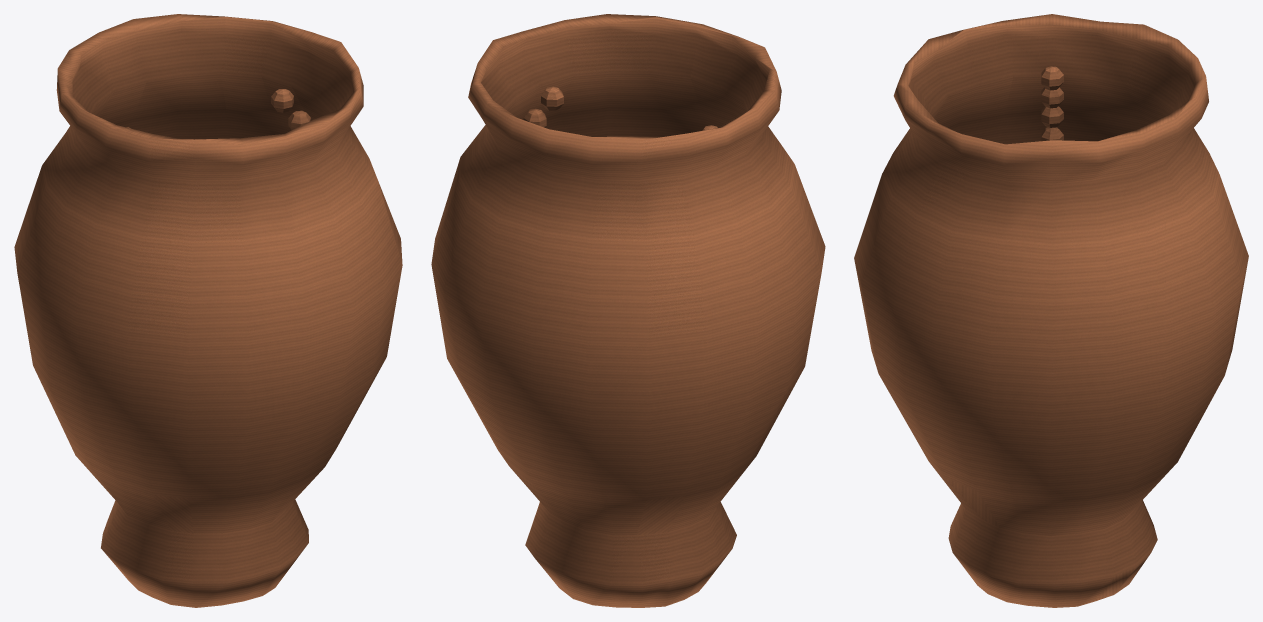
The model's file is urn.glb.
The picture shows the model from 3 angles, left to right: view 1: azimuth 30°, elevation 25°; view 2: azimuth 150°, elevation 25°; view 3: azimuth 270°, elevation 25°; orthographic projection.
Visible parts, largest first — view 1: urn; view 2: urn; view 3: urn.
Part boxes in pixels (box(x1,y1,x2,y2)): urn: box(14, 14, 402, 607); urn: box(431, 14, 825, 607); urn: box(854, 14, 1248, 607).
Size of the model in its own units: 0.6005 by 0.8477 by 0.6043.
1 material, 1 textured.
